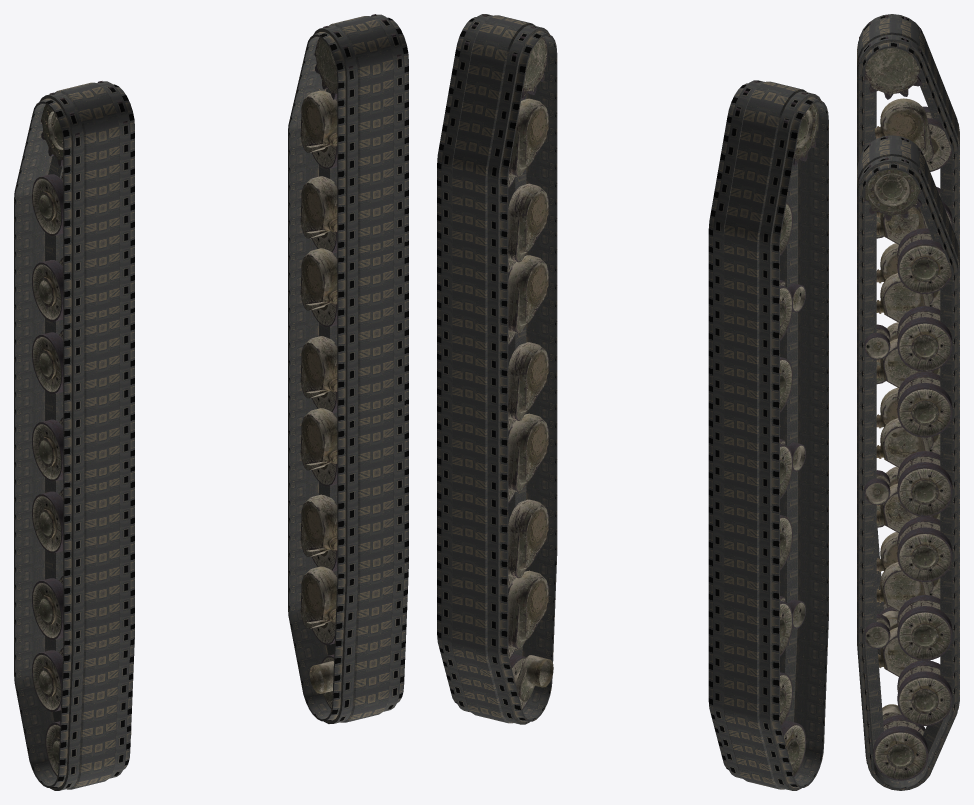
The model's file is Chassis.glb.
The picture shows the model from 3 angles, left to right: view 1: azimuth 30°, elevation 25°; view 2: azimuth 150°, elevation 25°; view 3: azimuth 270°, elevation 25°; orthographic projection. The views are drawn at different scales.
Parts seen in each view (by area): view 1: set_0_group_0, set_1_group_0, set_3_group_0, set_2_group_0; view 2: set_0_group_0, set_1_group_0, set_3_group_0, set_2_group_0; view 3: set_3_group_0, set_1_group_0, set_2_group_0, set_0_group_0.
Part boxes in pixels (x1,y1,x2,y2): set_0_group_0: [14, 81, 134, 790]; set_1_group_0: [288, 14, 408, 723]; set_3_group_0: [300, 14, 401, 709]; set_2_group_0: [32, 81, 131, 776]; set_0_group_0: [708, 80, 828, 790]; set_1_group_0: [437, 14, 557, 724]; set_3_group_0: [464, 14, 553, 709]; set_2_group_0: [736, 80, 818, 776]; set_3_group_0: [859, 136, 952, 780]; set_1_group_0: [857, 135, 959, 790]; set_2_group_0: [859, 15, 952, 650]; set_0_group_0: [857, 14, 959, 654].
Bounding box in the file's own units: 3.38 × 6.53 × 0.9633.
4 materials, 4 textured.
